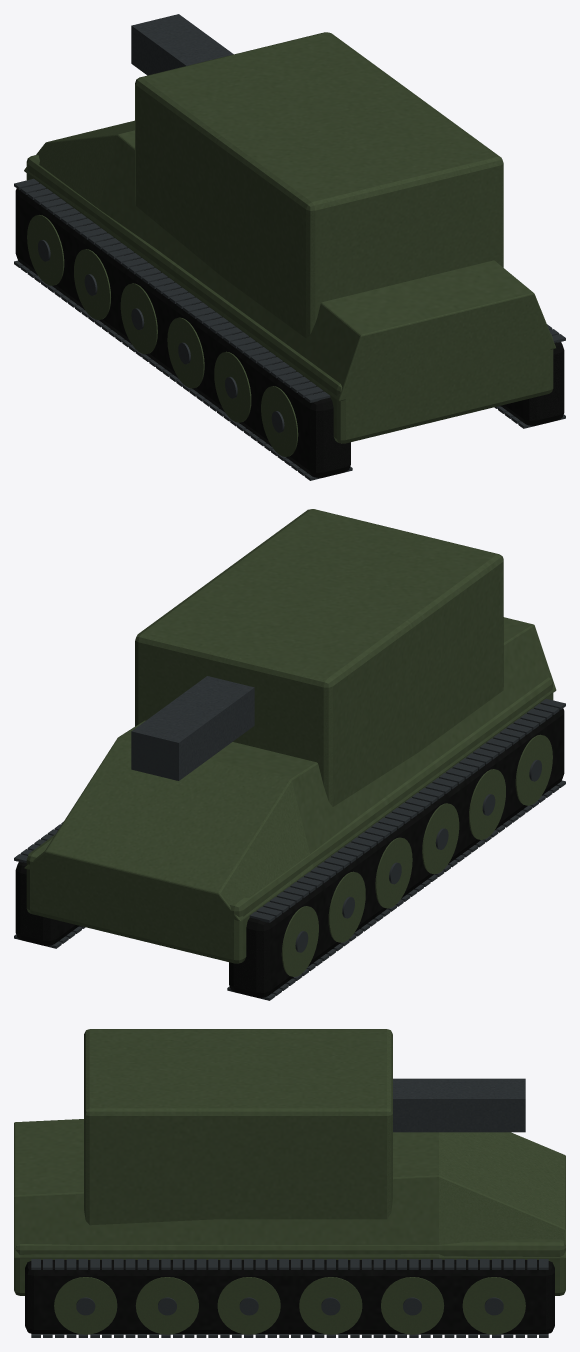
The picture shows the model from 3 angles, top to bottom: view 1: azimuth 30°, elevation 25°; view 2: azimuth 150°, elevation 25°; view 3: azimuth 270°, elevation 25°; orthographic projection. The views are drawn at different scales.
Parts seen in each view (by area): view 1: Closed resupply superstructure, Upper hull, Lower hull, Track belt, Stowed exterior conveyor, Track belt.001, Road wheel.002, Road wheel.001, Road wheel.003, Road wheel.005, Road wheel, Road wheel.004; view 2: Closed resupply superstructure, Upper hull, Lower hull, Track belt, Stowed exterior conveyor, Track belt.001, Road wheel.004, Road wheel.003, Road wheel.002, Road wheel, Road wheel.001, Road wheel.005; view 3: Closed resupply superstructure, Upper hull, Track belt.001, Lower hull, Stowed exterior conveyor, Road wheel.008, Road wheel.009, Road wheel.006, Road wheel.011, Road wheel.007, Road wheel.010.
Boxes of the visible parts, bbox=[...] form: Closed resupply superstructure: bbox=[135, 32, 503, 338]; Upper hull: bbox=[24, 120, 555, 401]; Lower hull: bbox=[26, 155, 553, 443]; Track belt: bbox=[15, 183, 350, 477]; Stowed exterior conveyor: bbox=[131, 14, 233, 75]; Track belt.001: bbox=[500, 342, 564, 425]; Road wheel.002: bbox=[167, 317, 204, 388]; Road wheel.001: bbox=[214, 351, 251, 422]; Road wheel.003: bbox=[120, 283, 157, 354]; Road wheel.005: bbox=[27, 215, 64, 285]; Road wheel: bbox=[261, 386, 298, 456]; Road wheel.004: bbox=[74, 249, 110, 319]; Closed resupply superstructure: bbox=[135, 509, 503, 806]; Upper hull: bbox=[24, 617, 556, 921]; Lower hull: bbox=[26, 677, 553, 963]; Track belt: bbox=[229, 703, 564, 997]; Stowed exterior conveyor: bbox=[131, 676, 254, 780]; Track belt.001: bbox=[15, 862, 79, 945]; Road wheel.004: bbox=[328, 871, 365, 942]; Road wheel.003: bbox=[375, 837, 412, 908]; Road wheel.002: bbox=[422, 803, 459, 874]; Road wheel: bbox=[515, 734, 552, 805]; Road wheel.001: bbox=[469, 769, 505, 839]; Road wheel.005: bbox=[281, 906, 318, 976]; Closed resupply superstructure: bbox=[84, 1029, 392, 1225]; Upper hull: bbox=[14, 1119, 565, 1258]; Track belt.001: bbox=[25, 1260, 554, 1334]; Lower hull: bbox=[14, 1239, 565, 1295]; Stowed exterior conveyor: bbox=[393, 1078, 525, 1132]; Road wheel.008: bbox=[217, 1277, 280, 1334]; Road wheel.009: bbox=[299, 1277, 362, 1334]; Road wheel.006: bbox=[54, 1277, 117, 1334]; Road wheel.011: bbox=[462, 1277, 525, 1334]; Road wheel.007: bbox=[135, 1277, 198, 1334]; Road wheel.010: bbox=[381, 1277, 444, 1334].
Bounding box in the file's own units: 3.55 × 3.23 × 7.5.
3 materials, 3 textured.
